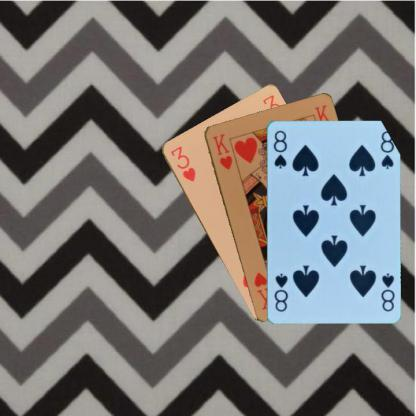3h: (168, 143, 196, 183)
8s: (270, 127, 288, 170), (378, 270, 396, 312)
Kh: (210, 131, 233, 171)
